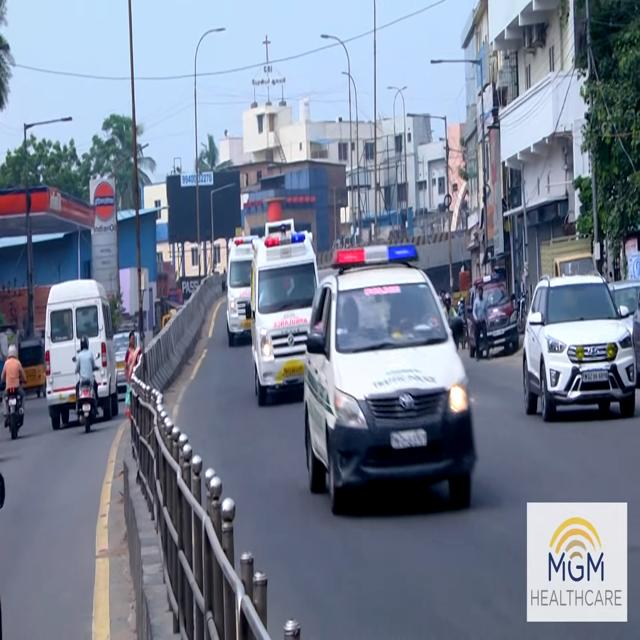emergency-vehicles: (290, 240, 493, 527), (222, 213, 332, 398)
